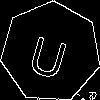U: (25, 26, 72, 81)
